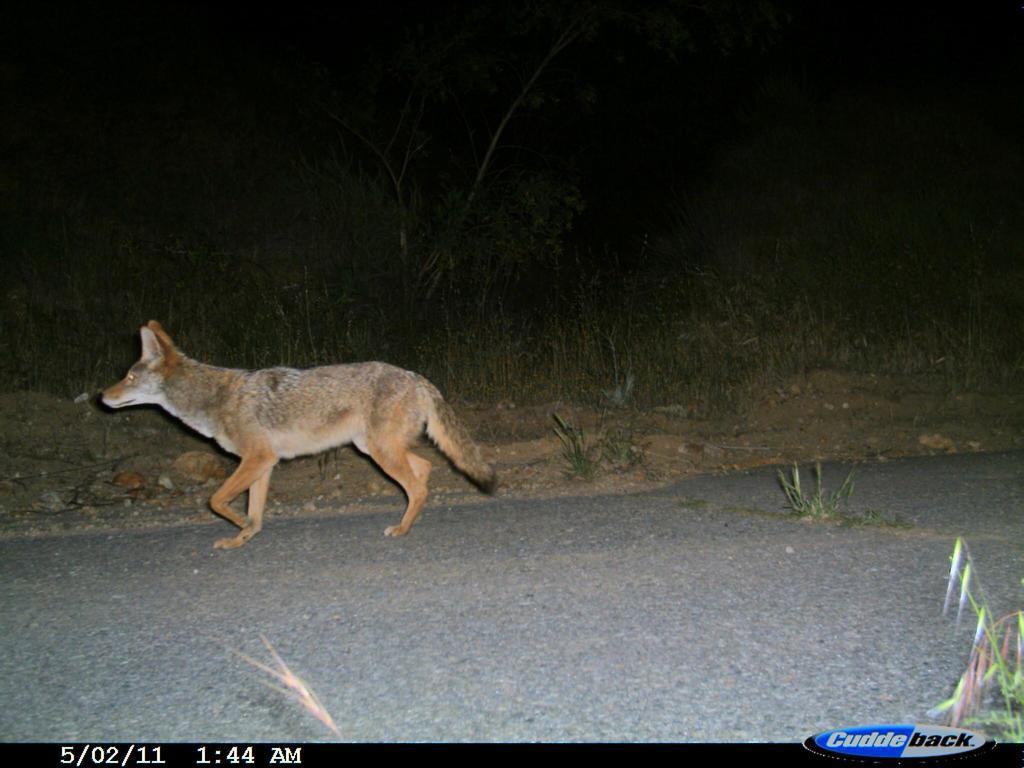coyote: (93, 315, 509, 560)
